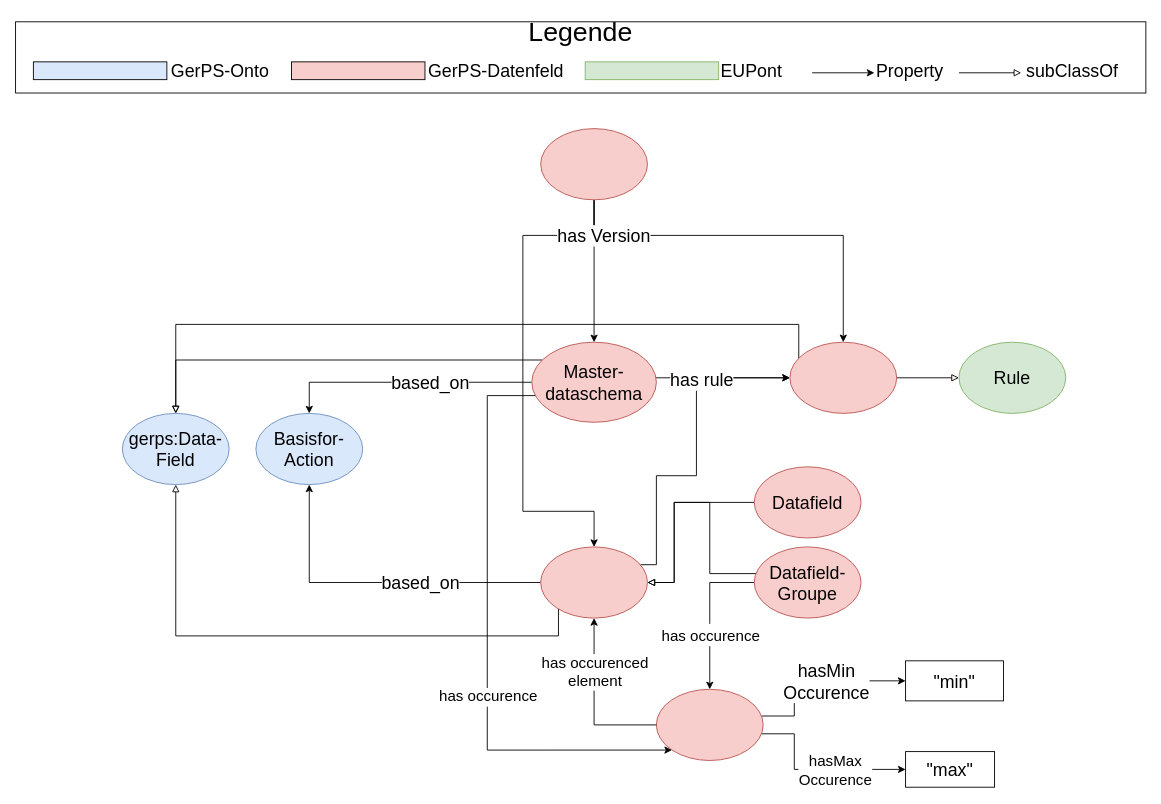
Image size: 1161x804. Some labels were removed from this diagram. The centre of each missing label's shape, as x and y in pixels:
Element: point (593, 582)
Element-Head: point (593, 164)
FIMRule: point (843, 377)
Occurence: point (709, 724)
